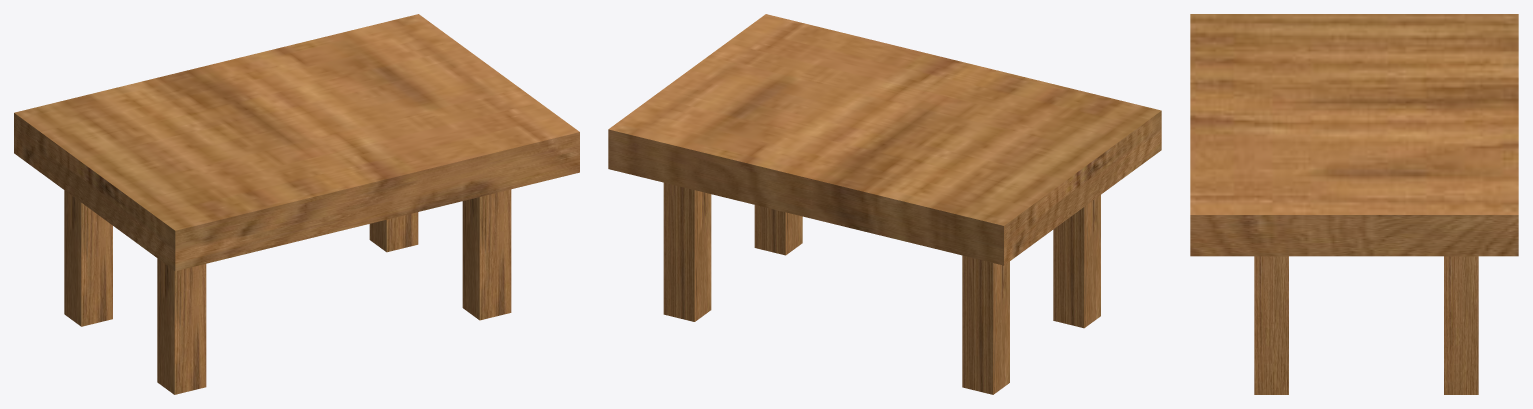
File: chair.obj
3 views of the same model, side by side, from view 1: azimuth 30°, elevation 25°; view 2: azimuth 150°, elevation 25°; view 3: azimuth 270°, elevation 25° (orthographic). The views are drawn at different scales.
Visible parts, largest first — view 1: polySurface19; view 2: polySurface19; view 3: polySurface19.
Boxes of the visible parts, bbox=[...] form: polySurface19: bbox=[14, 14, 579, 394]; polySurface19: bbox=[608, 14, 1161, 394]; polySurface19: bbox=[1190, 14, 1518, 394].
Size of the model in its own units: 13.69 by 6.29 by 9.45.
Materials: 1 (1 with a texture image).
